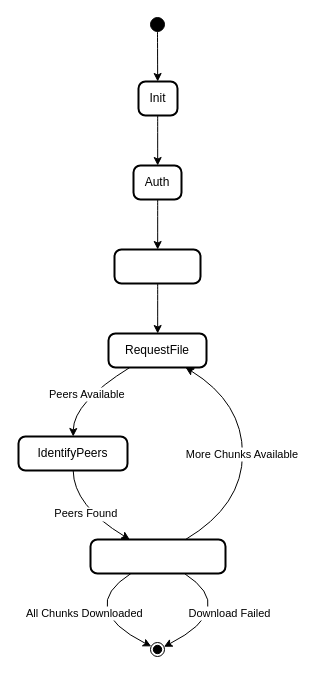
Image size: 316x674. Some labels were removed from this diagram. Each missing label, with the centre of its shape:
"DownloadChunks" goes at point 157,556.
"SelectFile" goes at point 157,266.
